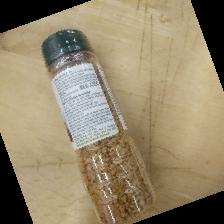TayNinh_green: (40, 29, 156, 224)
